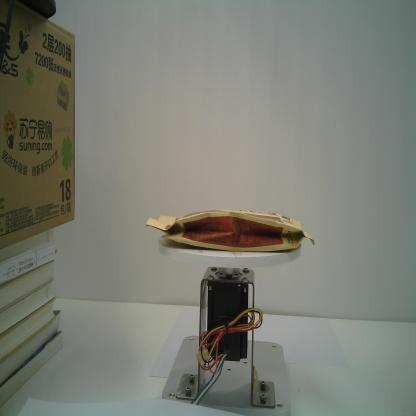Dried Food: (143, 207, 318, 254)
